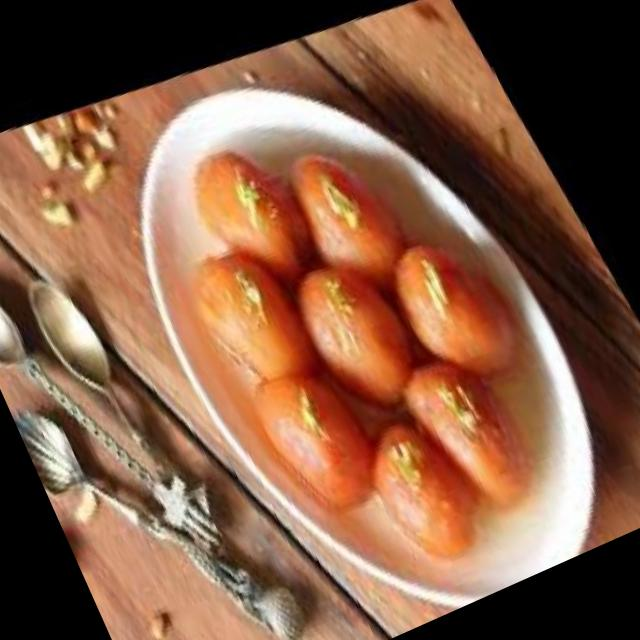gulab_jamun: (276, 114, 439, 314), (281, 232, 443, 427), (180, 117, 342, 306), (391, 328, 548, 521), (377, 207, 538, 393), (242, 342, 401, 528), (344, 389, 501, 574), (182, 225, 334, 402)
